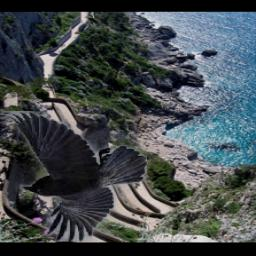Crow: (0, 112, 146, 242)
